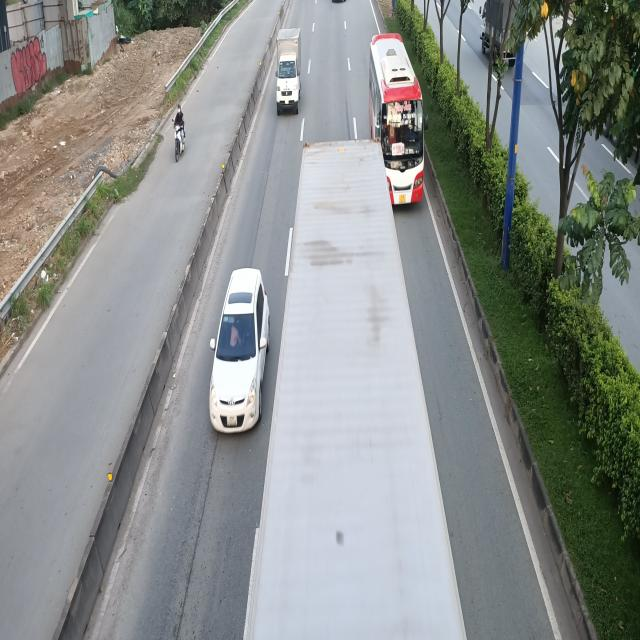car: (206, 269, 268, 434)
coach: (369, 34, 427, 208)
container: (243, 140, 466, 640)
truck: (276, 28, 304, 115)
